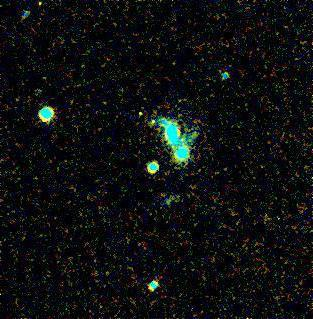star: (166, 122, 196, 152)
